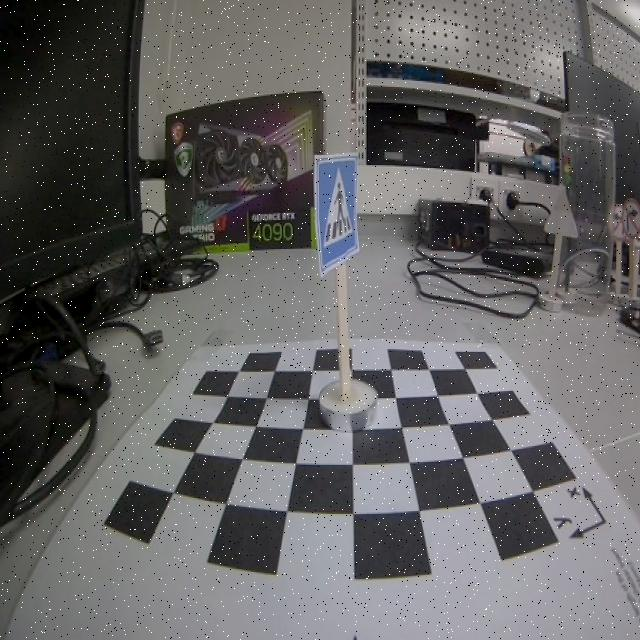Rambu Penyebrangan: (314, 152, 360, 275)
